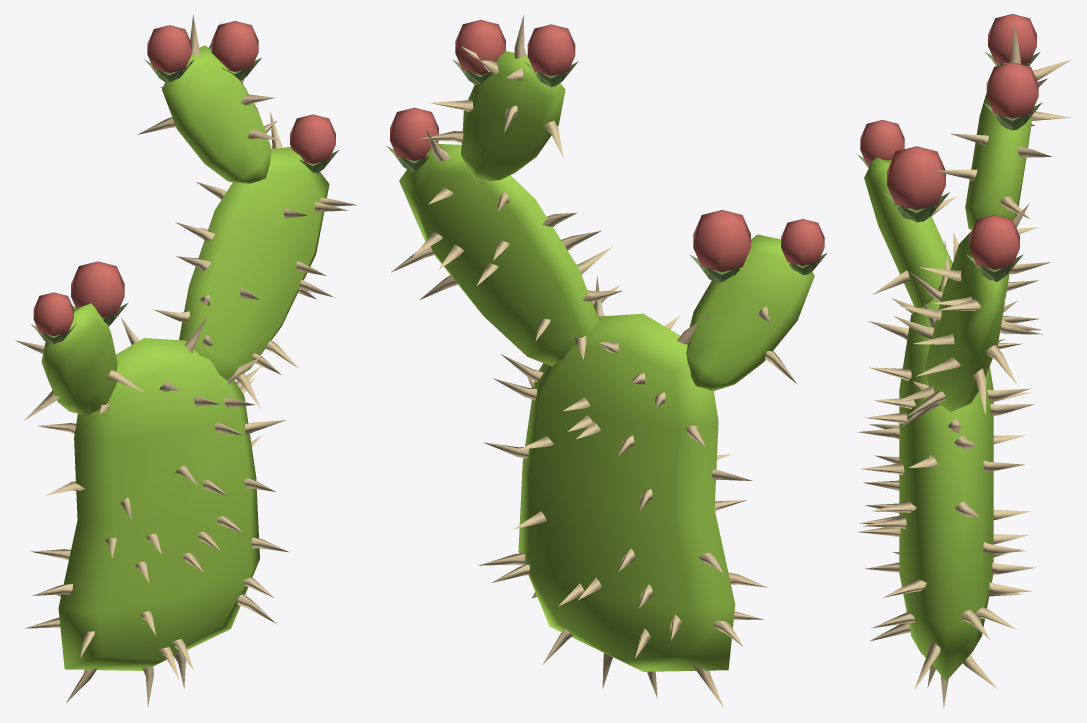
The model's file is MCactus2.fbx.
3 views of the same model, side by side, from view 1: azimuth 30°, elevation 25°; view 2: azimuth 150°, elevation 25°; view 3: azimuth 270°, elevation 25° (orthographic). The views are drawn at different scales.
Parts seen in each view (by area): view 1: MCactus2; view 2: MCactus2; view 3: MCactus2.
Part boxes in pixels (x1=…): MCactus2: x1=15, y1=14, x2=356, y2=707; MCactus2: x1=386, y1=15, x2=826, y2=707; MCactus2: x1=857, y1=14, x2=1071, y2=708.
Size of the model in its own units: 219 by 382 by 105.
